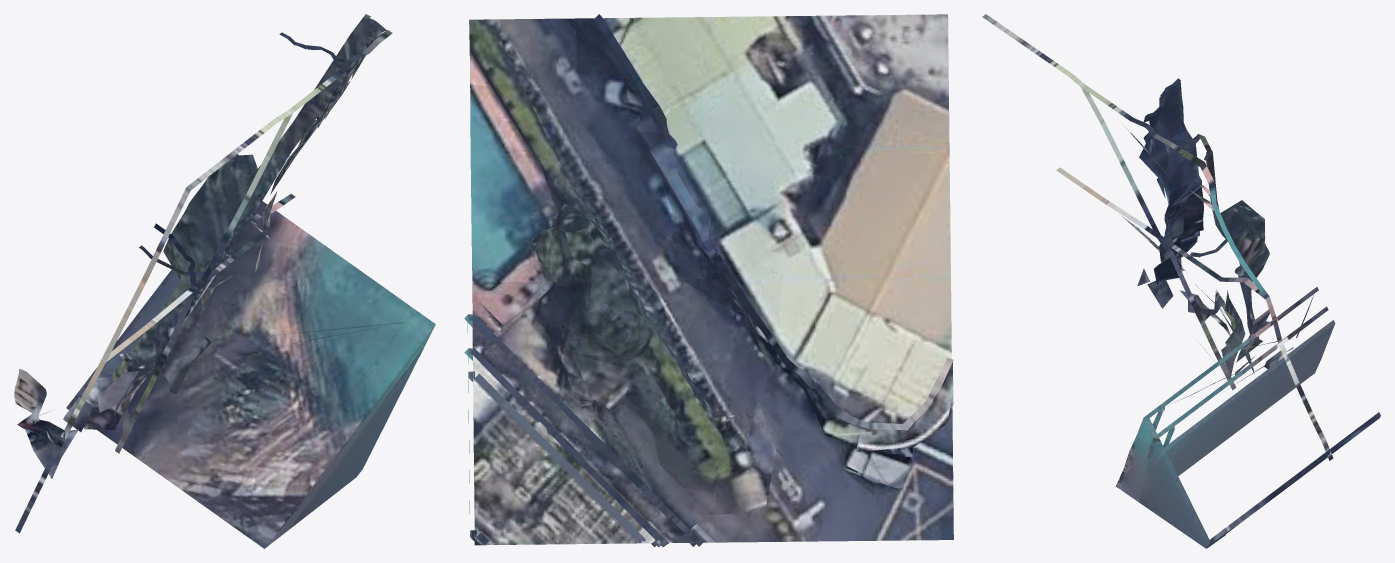
The picture shows the model from 3 angles, left to right: view 1: azimuth 30°, elevation 25°; view 2: azimuth 150°, elevation 25°; view 3: azimuth 270°, elevation 25°; orthographic projection. The views are drawn at different scales.
Size of the model in its own units: 40.21 by 43.38 by 36.26.
Materials: 1 (1 with a texture image).
